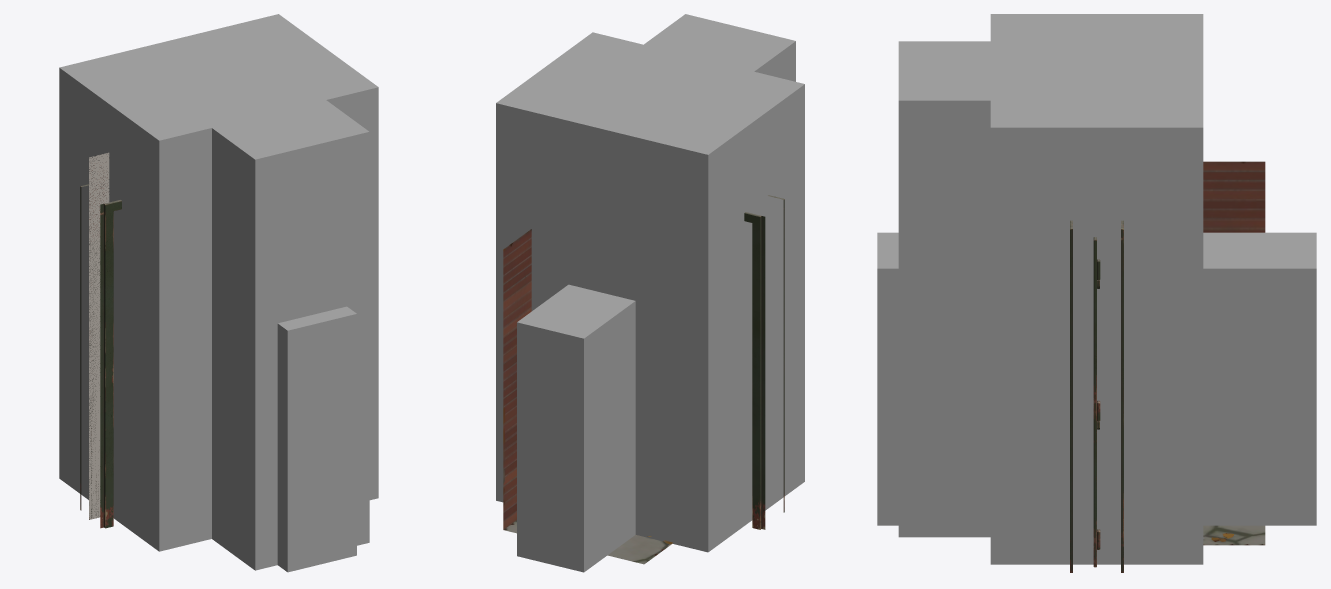
The model's file is concrete.glb.
3 renders of one model, left to right at view 1: azimuth 30°, elevation 25°; view 2: azimuth 150°, elevation 25°; view 3: azimuth 270°, elevation 25°, orthographic. The views are drawn at different scales.
Parts seen in each view (by area): view 1: Isl_boiler, Solid_boiler_wall, Solid_shelf_rack, Door_frame_concrete, Win_cellar, Mod_breach_brick_B_concrete, Mod_breach_brick_C_concrete; view 2: Isl_boiler, Solid_shelf_rack, Solid_boiler_wall, Exit_concrete_p0, Door_frame_concrete; view 3: Isl_boiler, Solid_boiler_wall, Solid_shelf_rack, Exit_concrete_p0, Door_frame_concrete, Door_leaf_concrete.
Boxes of the visible parts, bbox=[...] form: Isl_boiler: bbox=[59, 14, 378, 551]; Solid_boiler_wall: bbox=[163, 63, 369, 570]; Solid_shelf_rack: bbox=[277, 306, 356, 572]; Door_frame_concrete: bbox=[80, 184, 121, 528]; Win_cellar: bbox=[89, 152, 109, 519]; Mod_breach_brick_B_concrete: bbox=[89, 153, 109, 519]; Mod_breach_brick_C_concrete: bbox=[89, 155, 109, 516]; Isl_boiler: bbox=[496, 32, 804, 552]; Solid_shelf_rack: bbox=[517, 284, 635, 572]; Solid_boiler_wall: bbox=[595, 14, 795, 106]; Exit_concrete_p0: bbox=[503, 229, 672, 564]; Door_frame_concrete: bbox=[744, 195, 784, 529]; Isl_boiler: bbox=[990, 14, 1203, 564]; Solid_boiler_wall: bbox=[898, 41, 1096, 537]; Solid_shelf_rack: bbox=[877, 232, 1316, 525]; Exit_concrete_p0: bbox=[1203, 161, 1265, 545]; Door_frame_concrete: bbox=[1070, 220, 1123, 572]; Door_leaf_concrete: bbox=[1093, 237, 1100, 567].
Bounding box in the file's own units: 2.25 × 3.56 × 3.1.
Materials: 17 (12 with a texture image).
